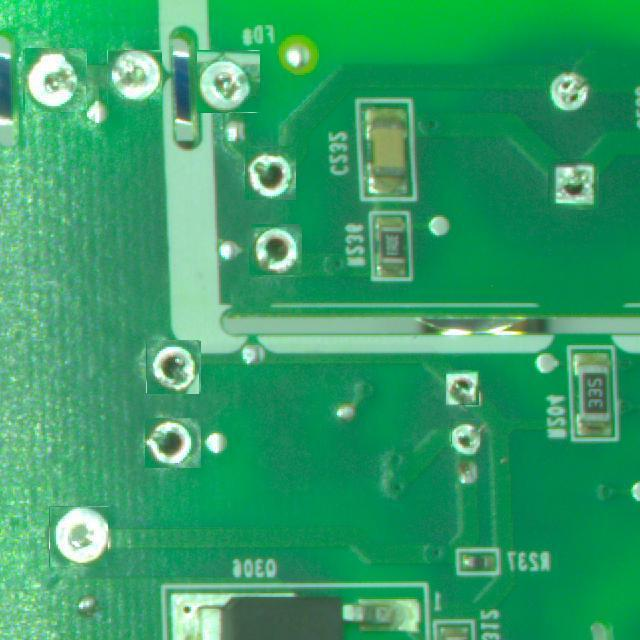lack_of_part: (24, 48, 86, 112), (198, 50, 260, 113), (49, 506, 108, 567), (107, 50, 162, 105), (147, 340, 200, 394), (244, 146, 296, 200), (145, 418, 201, 468), (250, 225, 301, 276), (549, 160, 598, 210), (546, 65, 592, 118), (445, 371, 480, 405), (451, 419, 480, 456)
